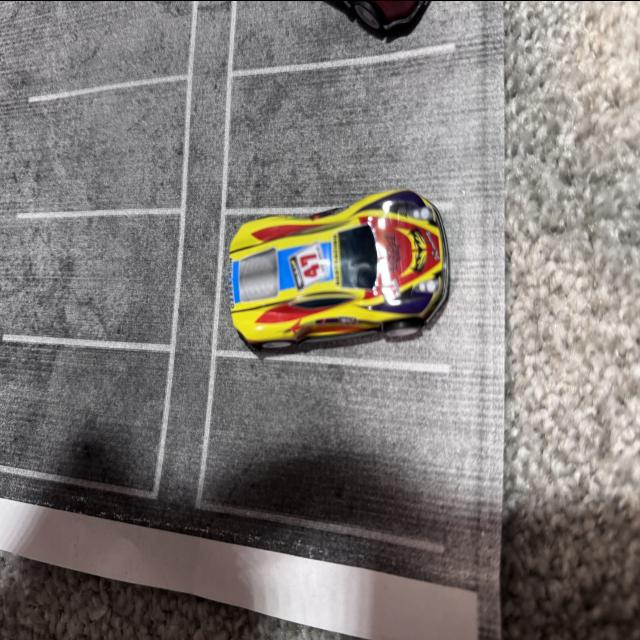Car: (195, 170, 457, 402)
